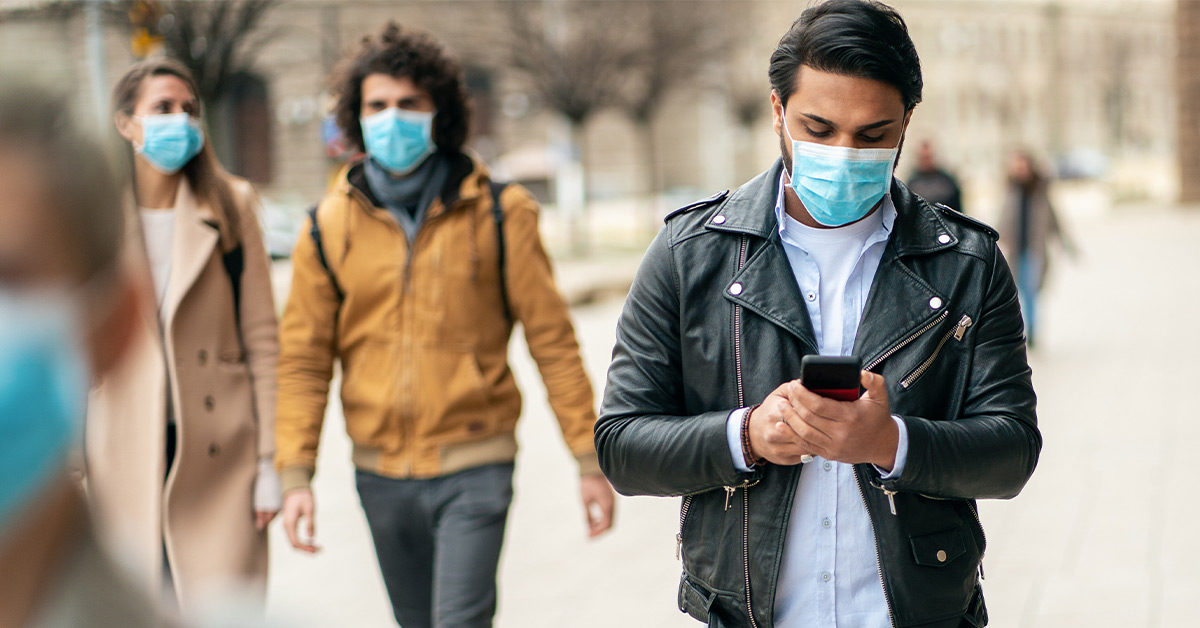with_mask: (774, 57, 899, 224), (349, 72, 438, 170), (130, 80, 202, 169)
